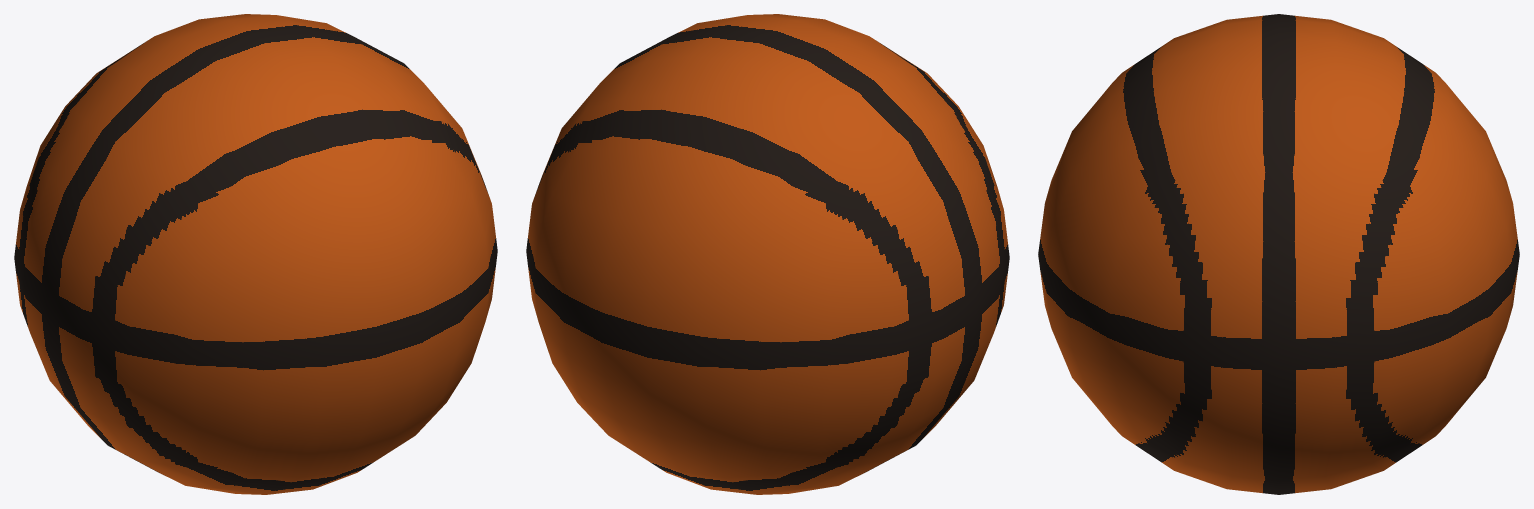
Rendered from basketball.glb.
The picture shows the model from 3 angles, left to right: view 1: azimuth 30°, elevation 25°; view 2: azimuth 150°, elevation 25°; view 3: azimuth 270°, elevation 25°; orthographic projection.
Parts seen in each view (by area): view 1: Sphere; view 2: Sphere; view 3: Sphere.
Part boxes in pixels (x1,y1,x2,y2): Sphere: (14,14,497,494); Sphere: (526,14,1009,494); Sphere: (1038,14,1519,494).
Bounding box in the file's own units: 24 × 24 × 24.
1 material, 1 textured.
